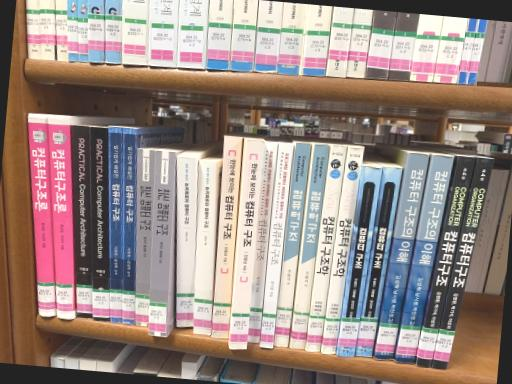book-spine: (431, 157, 494, 370), (394, 154, 455, 363), (415, 156, 475, 367), (373, 152, 429, 360), (355, 166, 403, 357), (336, 165, 382, 357), (321, 146, 363, 353), (305, 145, 347, 351), (289, 144, 329, 349), (273, 142, 310, 346), (229, 139, 264, 349), (259, 143, 294, 348), (247, 141, 279, 343), (211, 136, 242, 338), (47, 115, 75, 319), (28, 113, 56, 316), (148, 150, 175, 336), (71, 125, 92, 318), (193, 160, 216, 335), (89, 126, 109, 322), (135, 148, 155, 327), (175, 156, 195, 326), (122, 127, 136, 325), (108, 126, 122, 322)
